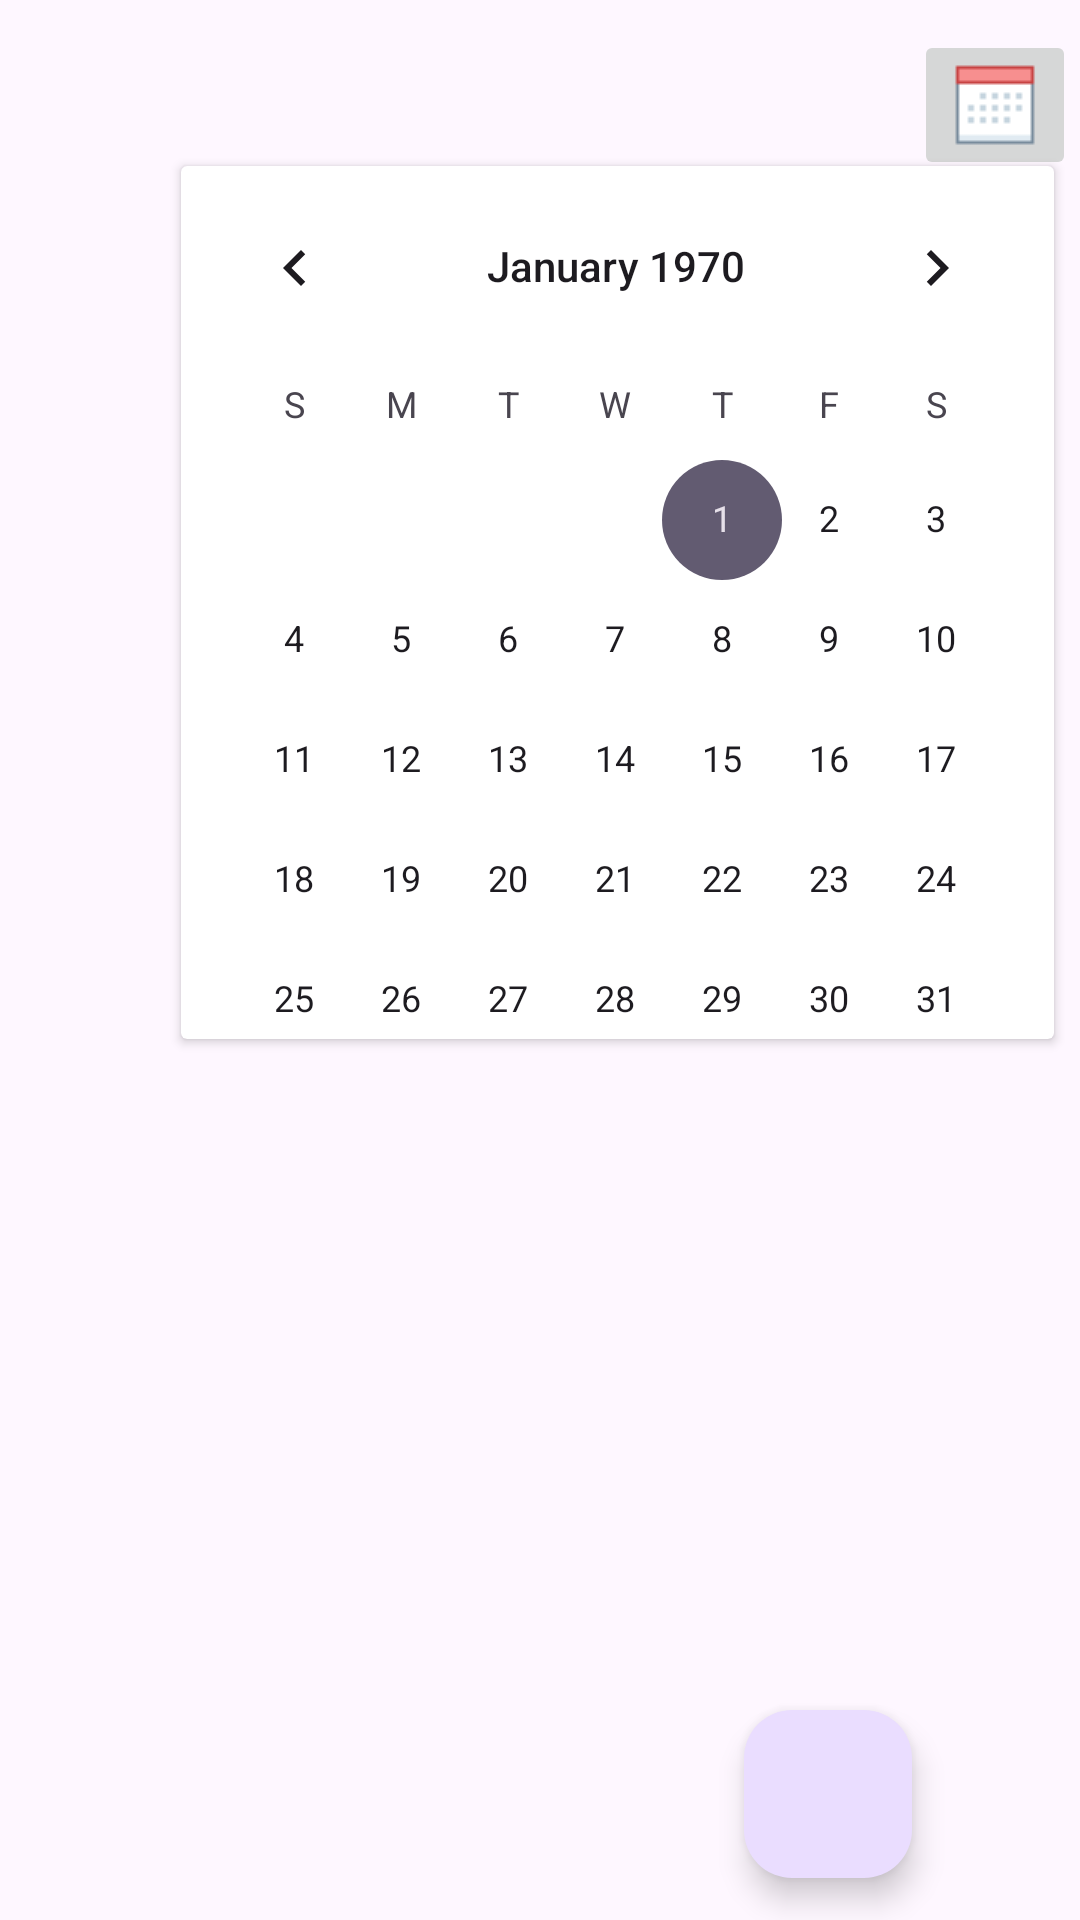

Where to tap for icons on this 1080*1920 app screen, as (x,y):
calender: (995,105)
